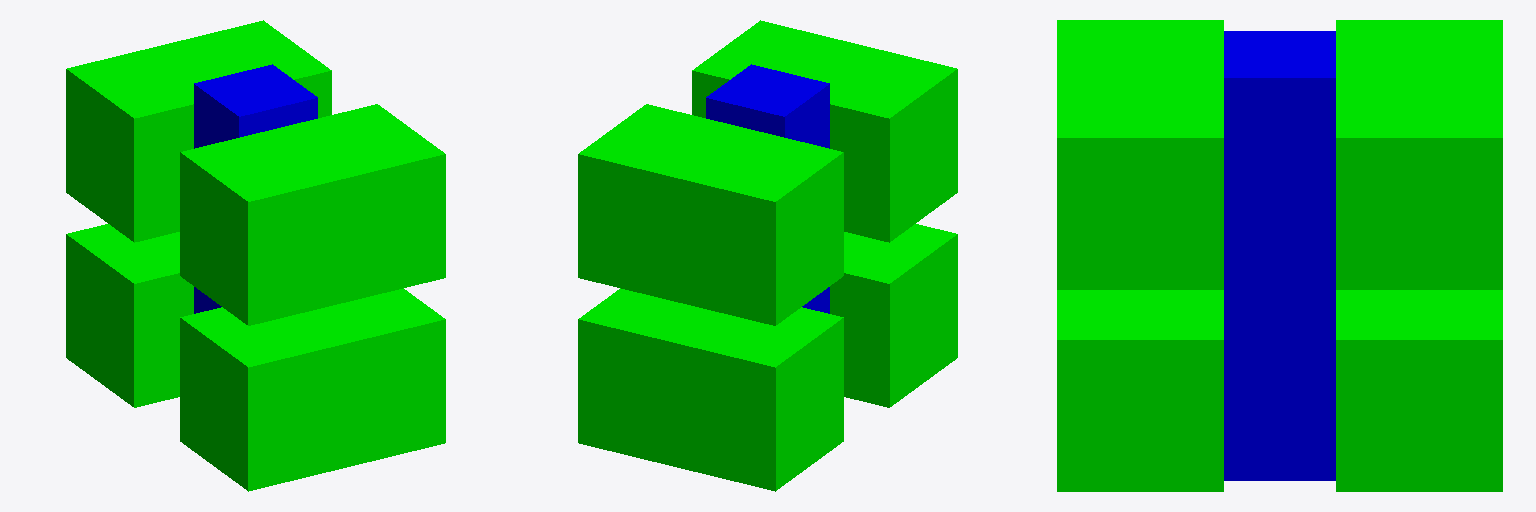
The robot description file, URDF, robot "robot":
<robot name = "robot">
    <link name="root">
        <inertial>
            <origin xyz="0.0 0.0 1.5" rpy="0 0 0"/>
            <mass value="1" />
            <inertia ixx="100" ixy="0" ixz="0" iyy="100" iyz="0" izz="100" />
        </inertial>
        <visual>
            <origin xyz="0.0 0.0 1.5" rpy="0 0 0"/>
            <geometry>
                <box size="0 0 0.0001" />
            </geometry>
            <material name="Green">
                <color rgba="0 1.0 0.0 1.0"/>
            </material>
        </visual>
        <collision>
            <origin xyz="0.0 0.0 1.5" rpy="0 0 0"/>
            <geometry>
                <box size="0 0 0.0001" />
            </geometry>
        </collision>
    </link>
    <joint name="root_000" type="revolute">
       <parent link="root"/>
       <child  link="000"/>
       <origin rpy="0 0 0" xyz="0.0 0.0 1.5" />
     <axis xyz="1 0 0"/>
       <limit effort="0.0" lower="-3.14159" upper="3.14159" velocity="0.0"/>
    </joint>
    <link name="000">
        <inertial>
            <origin xyz="0.0 0.0 -0.2" rpy="0 0 0"/>
            <mass value="1" />
            <inertia ixx="100" ixy="0" ixz="0" iyy="100" iyz="0" izz="100" />
        </inertial>
        <visual>
            <origin xyz="0.0 0.0 -0.2" rpy="0 0 0"/>
            <geometry>
                <box size="0.2 0.2 0.4" />
            </geometry>
            <material name="Blue">
                <color rgba="0 0.0 1.0 1.0"/>
            </material>
        </visual>
        <collision>
            <origin xyz="0.0 0.0 -0.2" rpy="0 0 0"/>
            <geometry>
                <box size="0.2 0.2 0.4" />
            </geometry>
        </collision>
    </link>
    <joint name="000_010" type="revolute">
       <parent link="000"/>
       <child  link="010"/>
       <origin rpy="0 0 0" xyz="0.0 0.0 -0.4" />
     <axis xyz="0 0 1"/>
       <limit effort="0.0" lower="-3.14159" upper="3.14159" velocity="0.0"/>
    </joint>
    <link name="010">
        <inertial>
            <origin xyz="0.0 0.0 -0.2" rpy="0 0 0"/>
            <mass value="1" />
            <inertia ixx="100" ixy="0" ixz="0" iyy="100" iyz="0" izz="100" />
        </inertial>
        <visual>
            <origin xyz="0.0 0.0 -0.2" rpy="0 0 0"/>
            <geometry>
                <box size="0.2 0.2 0.4" />
            </geometry>
            <material name="Blue">
                <color rgba="0 0.0 1.0 1.0"/>
            </material>
        </visual>
        <collision>
            <origin xyz="0.0 0.0 -0.2" rpy="0 0 0"/>
            <geometry>
                <box size="0.2 0.2 0.4" />
            </geometry>
        </collision>
    </link>
    <joint name="010_010-100" type="revolute">
       <parent link="010"/>
       <child  link="010-100"/>
       <origin rpy="0 0 0" xyz="0.0 0.1 -0.2" />
     <axis xyz="0 1 0"/>
       <limit effort="0.0" lower="-3.14159" upper="3.14159" velocity="0.0"/>
    </joint>
    <link name="010-100">
        <inertial>
            <origin xyz="0.0 0.05 -0.0" rpy="0 0 0"/>
            <mass value="1" />
            <inertia ixx="100" ixy="0" ixz="0" iyy="100" iyz="0" izz="100" />
        </inertial>
        <visual>
            <origin xyz="0.0 0.05 -0.0" rpy="0 0 0"/>
            <geometry>
                <box size="0.5 0.1 0.3" />
            </geometry>
            <material name="Green">
                <color rgba="0 1.0 0.0 1.0"/>
            </material>
        </visual>
        <collision>
            <origin xyz="0.0 0.05 -0.0" rpy="0 0 0"/>
            <geometry>
                <box size="0.5 0.1 0.3" />
            </geometry>
        </collision>
    </link>
    <joint name="010-100_010-110" type="revolute">
       <parent link="010-100"/>
       <child  link="010-110"/>
       <origin rpy="0 0 0" xyz="0.0 0.1 -0.0" />
     <axis xyz="0 1 0"/>
       <limit effort="0.0" lower="-3.14159" upper="3.14159" velocity="0.0"/>
    </joint>
    <link name="010-110">
        <inertial>
            <origin xyz="0.0 0.05 -0.0" rpy="0 0 0"/>
            <mass value="1" />
            <inertia ixx="100" ixy="0" ixz="0" iyy="100" iyz="0" izz="100" />
        </inertial>
        <visual>
            <origin xyz="0.0 0.05 -0.0" rpy="0 0 0"/>
            <geometry>
                <box size="0.5 0.1 0.3" />
            </geometry>
            <material name="Green">
                <color rgba="0 1.0 0.0 1.0"/>
            </material>
        </visual>
        <collision>
            <origin xyz="0.0 0.05 -0.0" rpy="0 0 0"/>
            <geometry>
                <box size="0.5 0.1 0.3" />
            </geometry>
        </collision>
    </link>
    <joint name="010-110_010-120" type="revolute">
       <parent link="010-110"/>
       <child  link="010-120"/>
       <origin rpy="0 0 0" xyz="0.0 0.1 -0.0" />
     <axis xyz="0 1 0"/>
       <limit effort="0.0" lower="-3.14159" upper="3.14159" velocity="0.0"/>
    </joint>
    <link name="010-120">
        <inertial>
            <origin xyz="0.0 0.05 -0.0" rpy="0 0 0"/>
            <mass value="1" />
            <inertia ixx="100" ixy="0" ixz="0" iyy="100" iyz="0" izz="100" />
        </inertial>
        <visual>
            <origin xyz="0.0 0.05 -0.0" rpy="0 0 0"/>
            <geometry>
                <box size="0.5 0.1 0.3" />
            </geometry>
            <material name="Green">
                <color rgba="0 1.0 0.0 1.0"/>
            </material>
        </visual>
        <collision>
            <origin xyz="0.0 0.05 -0.0" rpy="0 0 0"/>
            <geometry>
                <box size="0.5 0.1 0.3" />
            </geometry>
        </collision>
    </link>
    <joint name="010_010-101" type="revolute">
       <parent link="010"/>
       <child  link="010-101"/>
       <origin rpy="0 0 0" xyz="0.0 -0.1 -0.2" />
     <axis xyz="0 1 0"/>
       <limit effort="0.0" lower="-3.14159" upper="3.14159" velocity="0.0"/>
    </joint>
    <link name="010-101">
        <inertial>
            <origin xyz="0.0 -0.05 -0.0" rpy="0 0 0"/>
            <mass value="1" />
            <inertia ixx="100" ixy="0" ixz="0" iyy="100" iyz="0" izz="100" />
        </inertial>
        <visual>
            <origin xyz="0.0 -0.05 -0.0" rpy="0 0 0"/>
            <geometry>
                <box size="0.5 0.1 0.3" />
            </geometry>
            <material name="Green">
                <color rgba="0 1.0 0.0 1.0"/>
            </material>
        </visual>
        <collision>
            <origin xyz="0.0 -0.05 -0.0" rpy="0 0 0"/>
            <geometry>
                <box size="0.5 0.1 0.3" />
            </geometry>
        </collision>
    </link>
    <joint name="010-101_010-111" type="revolute">
       <parent link="010-101"/>
       <child  link="010-111"/>
       <origin rpy="0 0 0" xyz="0.0 -0.1 -0.0" />
     <axis xyz="0 1 0"/>
       <limit effort="0.0" lower="-3.14159" upper="3.14159" velocity="0.0"/>
    </joint>
    <link name="010-111">
        <inertial>
            <origin xyz="0.0 -0.05 -0.0" rpy="0 0 0"/>
            <mass value="1" />
            <inertia ixx="100" ixy="0" ixz="0" iyy="100" iyz="0" izz="100" />
        </inertial>
        <visual>
            <origin xyz="0.0 -0.05 -0.0" rpy="0 0 0"/>
            <geometry>
                <box size="0.5 0.1 0.3" />
            </geometry>
            <material name="Green">
                <color rgba="0 1.0 0.0 1.0"/>
            </material>
        </visual>
        <collision>
            <origin xyz="0.0 -0.05 -0.0" rpy="0 0 0"/>
            <geometry>
                <box size="0.5 0.1 0.3" />
            </geometry>
        </collision>
    </link>
    <joint name="010-111_010-121" type="revolute">
       <parent link="010-111"/>
       <child  link="010-121"/>
       <origin rpy="0 0 0" xyz="0.0 -0.1 -0.0" />
     <axis xyz="0 1 0"/>
       <limit effort="0.0" lower="-3.14159" upper="3.14159" velocity="0.0"/>
    </joint>
    <link name="010-121">
        <inertial>
            <origin xyz="0.0 -0.05 -0.0" rpy="0 0 0"/>
            <mass value="1" />
            <inertia ixx="100" ixy="0" ixz="0" iyy="100" iyz="0" izz="100" />
        </inertial>
        <visual>
            <origin xyz="0.0 -0.05 -0.0" rpy="0 0 0"/>
            <geometry>
                <box size="0.5 0.1 0.3" />
            </geometry>
            <material name="Green">
                <color rgba="0 1.0 0.0 1.0"/>
            </material>
        </visual>
        <collision>
            <origin xyz="0.0 -0.05 -0.0" rpy="0 0 0"/>
            <geometry>
                <box size="0.5 0.1 0.3" />
            </geometry>
        </collision>
    </link>
    <joint name="000_000-100" type="revolute">
       <parent link="000"/>
       <child  link="000-100"/>
       <origin rpy="0 0 0" xyz="0.0 0.1 -0.2" />
     <axis xyz="0 1 0"/>
       <limit effort="0.0" lower="-3.14159" upper="3.14159" velocity="0.0"/>
    </joint>
    <link name="000-100">
        <inertial>
            <origin xyz="0.0 0.05 -0.0" rpy="0 0 0"/>
            <mass value="1" />
            <inertia ixx="100" ixy="0" ixz="0" iyy="100" iyz="0" izz="100" />
        </inertial>
        <visual>
            <origin xyz="0.0 0.05 -0.0" rpy="0 0 0"/>
            <geometry>
                <box size="0.5 0.1 0.3" />
            </geometry>
            <material name="Green">
                <color rgba="0 1.0 0.0 1.0"/>
            </material>
        </visual>
        <collision>
            <origin xyz="0.0 0.05 -0.0" rpy="0 0 0"/>
            <geometry>
                <box size="0.5 0.1 0.3" />
            </geometry>
        </collision>
    </link>
    <joint name="000-100_000-110" type="revolute">
       <parent link="000-100"/>
       <child  link="000-110"/>
       <origin rpy="0 0 0" xyz="0.0 0.1 -0.0" />
     <axis xyz="0 1 0"/>
       <limit effort="0.0" lower="-3.14159" upper="3.14159" velocity="0.0"/>
    </joint>
    <link name="000-110">
        <inertial>
            <origin xyz="0.0 0.05 -0.0" rpy="0 0 0"/>
            <mass value="1" />
            <inertia ixx="100" ixy="0" ixz="0" iyy="100" iyz="0" izz="100" />
        </inertial>
        <visual>
            <origin xyz="0.0 0.05 -0.0" rpy="0 0 0"/>
            <geometry>
                <box size="0.5 0.1 0.3" />
            </geometry>
            <material name="Green">
                <color rgba="0 1.0 0.0 1.0"/>
            </material>
        </visual>
        <collision>
            <origin xyz="0.0 0.05 -0.0" rpy="0 0 0"/>
            <geometry>
                <box size="0.5 0.1 0.3" />
            </geometry>
        </collision>
    </link>
    <joint name="000-110_000-120" type="revolute">
       <parent link="000-110"/>
       <child  link="000-120"/>
       <origin rpy="0 0 0" xyz="0.0 0.1 -0.0" />
     <axis xyz="0 1 0"/>
       <limit effort="0.0" lower="-3.14159" upper="3.14159" velocity="0.0"/>
    </joint>
    <link name="000-120">
        <inertial>
            <origin xyz="0.0 0.05 -0.0" rpy="0 0 0"/>
            <mass value="1" />
            <inertia ixx="100" ixy="0" ixz="0" iyy="100" iyz="0" izz="100" />
        </inertial>
        <visual>
            <origin xyz="0.0 0.05 -0.0" rpy="0 0 0"/>
            <geometry>
                <box size="0.5 0.1 0.3" />
            </geometry>
            <material name="Green">
                <color rgba="0 1.0 0.0 1.0"/>
            </material>
        </visual>
        <collision>
            <origin xyz="0.0 0.05 -0.0" rpy="0 0 0"/>
            <geometry>
                <box size="0.5 0.1 0.3" />
            </geometry>
        </collision>
    </link>
    <joint name="000_000-101" type="revolute">
       <parent link="000"/>
       <child  link="000-101"/>
       <origin rpy="0 0 0" xyz="0.0 -0.1 -0.2" />
     <axis xyz="0 1 0"/>
       <limit effort="0.0" lower="-3.14159" upper="3.14159" velocity="0.0"/>
    </joint>
    <link name="000-101">
        <inertial>
            <origin xyz="0.0 -0.05 -0.0" rpy="0 0 0"/>
            <mass value="1" />
            <inertia ixx="100" ixy="0" ixz="0" iyy="100" iyz="0" izz="100" />
        </inertial>
        <visual>
            <origin xyz="0.0 -0.05 -0.0" rpy="0 0 0"/>
            <geometry>
                <box size="0.5 0.1 0.3" />
            </geometry>
            <material name="Green">
                <color rgba="0 1.0 0.0 1.0"/>
            </material>
        </visual>
        <collision>
            <origin xyz="0.0 -0.05 -0.0" rpy="0 0 0"/>
            <geometry>
                <box size="0.5 0.1 0.3" />
            </geometry>
        </collision>
    </link>
    <joint name="000-101_000-111" type="revolute">
       <parent link="000-101"/>
       <child  link="000-111"/>
       <origin rpy="0 0 0" xyz="0.0 -0.1 -0.0" />
     <axis xyz="0 1 0"/>
       <limit effort="0.0" lower="-3.14159" upper="3.14159" velocity="0.0"/>
    </joint>
    <link name="000-111">
        <inertial>
            <origin xyz="0.0 -0.05 -0.0" rpy="0 0 0"/>
            <mass value="1" />
            <inertia ixx="100" ixy="0" ixz="0" iyy="100" iyz="0" izz="100" />
        </inertial>
        <visual>
            <origin xyz="0.0 -0.05 -0.0" rpy="0 0 0"/>
            <geometry>
                <box size="0.5 0.1 0.3" />
            </geometry>
            <material name="Green">
                <color rgba="0 1.0 0.0 1.0"/>
            </material>
        </visual>
        <collision>
            <origin xyz="0.0 -0.05 -0.0" rpy="0 0 0"/>
            <geometry>
                <box size="0.5 0.1 0.3" />
            </geometry>
        </collision>
    </link>
    <joint name="000-111_000-121" type="revolute">
       <parent link="000-111"/>
       <child  link="000-121"/>
       <origin rpy="0 0 0" xyz="0.0 -0.1 -0.0" />
     <axis xyz="0 1 0"/>
       <limit effort="0.0" lower="-3.14159" upper="3.14159" velocity="0.0"/>
    </joint>
    <link name="000-121">
        <inertial>
            <origin xyz="0.0 -0.05 -0.0" rpy="0 0 0"/>
            <mass value="1" />
            <inertia ixx="100" ixy="0" ixz="0" iyy="100" iyz="0" izz="100" />
        </inertial>
        <visual>
            <origin xyz="0.0 -0.05 -0.0" rpy="0 0 0"/>
            <geometry>
                <box size="0.5 0.1 0.3" />
            </geometry>
            <material name="Green">
                <color rgba="0 1.0 0.0 1.0"/>
            </material>
        </visual>
        <collision>
            <origin xyz="0.0 -0.05 -0.0" rpy="0 0 0"/>
            <geometry>
                <box size="0.5 0.1 0.3" />
            </geometry>
        </collision>
    </link>
</robot>

--- What the picture shows (computed from the rendered views, not written in the file) ---
3 views of the same robot in one strip: view 1: azimuth 30°, elevation 25°; view 2: azimuth 150°, elevation 25°; view 3: azimuth 270°, elevation 25° (orthographic).
Robot: robot — 15 links, 14 joints (14 revolute); root link root; default pose: every joint at zero.
Links seen in each view (by area): view 1: 010-121, 000-121, 000-100, 010-100, 000-120, 000-101, 000-110, 000-111, 000, 010-111, 010-110, 010-120 (+1 smaller); view 2: 010-120, 000-120, 000-101, 010-101, 000-121, 000-100, 000-110, 000-111, 000, 010-110, 010-111, 010-100 (+1 smaller); view 3: 000, 010, 000-110, 000-120, 000-111, 000-121, 000-100, 000-101, 010-110, 010-120, 010-111, 010-121 (+2 smaller).
Boxes of the visible links, <box> form: 010-121: <box>226,303,445,491</box>; 000-121: <box>226,137,445,325</box>; 000-100: <box>112,54,331,242</box>; 010-100: <box>112,251,193,407</box>; 000-120: <box>66,20,284,208</box>; 000-101: <box>180,104,399,292</box>; 000-110: <box>89,37,308,225</box>; 000-111: <box>203,121,421,308</box>; 000: <box>194,64,317,148</box>; 010-111: <box>203,288,422,474</box>; 010-110: <box>89,232,179,390</box>; 010-120: <box>66,224,130,373</box>; 010-120: <box>578,303,797,491</box>; 000-120: <box>578,137,797,325</box>; 000-101: <box>692,54,911,242</box>; 010-101: <box>830,251,911,407</box>; 000-121: <box>739,20,957,208</box>; 000-100: <box>624,104,843,292</box>; 000-110: <box>602,121,820,308</box>; 000-111: <box>715,37,934,225</box>; 000: <box>706,64,829,148</box>; 010-110: <box>601,288,820,474</box>; 010-111: <box>844,232,934,390</box>; 010-100: <box>779,307,843,457</box>; 000: <box>1224,31,1335,279</box>; 010: <box>1224,280,1335,480</box>; 000-110: <box>1391,20,1446,289</box>; 000-120: <box>1447,20,1502,289</box>; 000-111: <box>1113,20,1168,289</box>; 000-121: <box>1057,20,1112,289</box>; 000-100: <box>1336,20,1390,289</box>; 000-101: <box>1169,20,1223,289</box>; 010-110: <box>1391,290,1446,491</box>; 010-120: <box>1447,290,1502,491</box>; 010-111: <box>1113,290,1168,491</box>; 010-121: <box>1057,290,1112,491</box>.
Size in the robot's own frame: 0.5 by 0.8 by 0.8 metres.
Geometry: primitives only (box / cylinder / sphere), no mesh files.